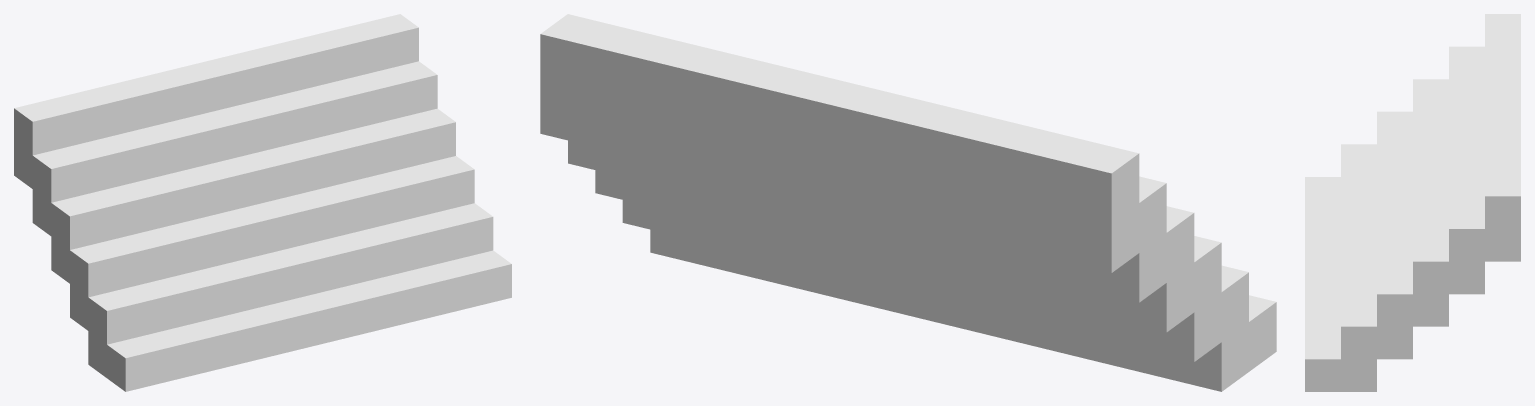
The model's file is StairsV1W.fbx.
3 views of the same model, side by side, from view 1: azimuth 30°, elevation 25°; view 2: azimuth 150°, elevation 25°; view 3: azimuth 270°, elevation 25° (orthographic). The views are drawn at different scales.
Visible parts, largest first — view 1: StairsV1W; view 2: StairsV1W; view 3: StairsV1W.
Boxes of the visible parts, x1,y1,x2,y2 form: StairsV1W: [14, 14, 511, 391]; StairsV1W: [540, 14, 1276, 391]; StairsV1W: [1305, 14, 1520, 391].
Size of the model in its own units: 200 by 100 by 100.
